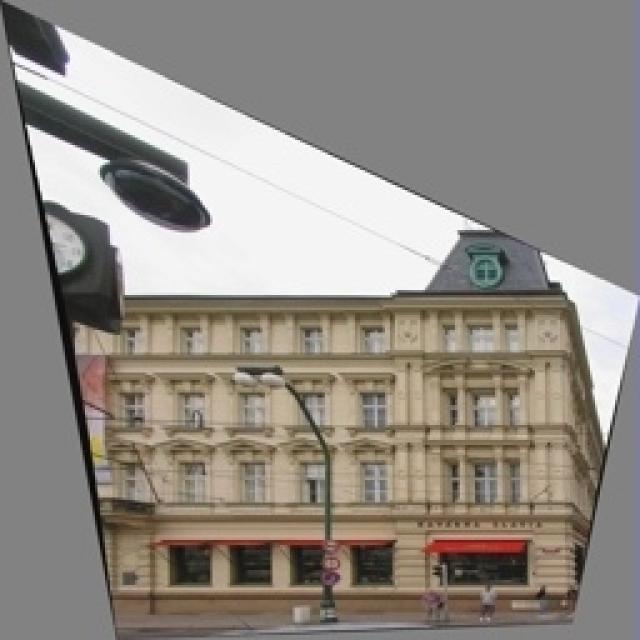building: (110, 175, 612, 640)
